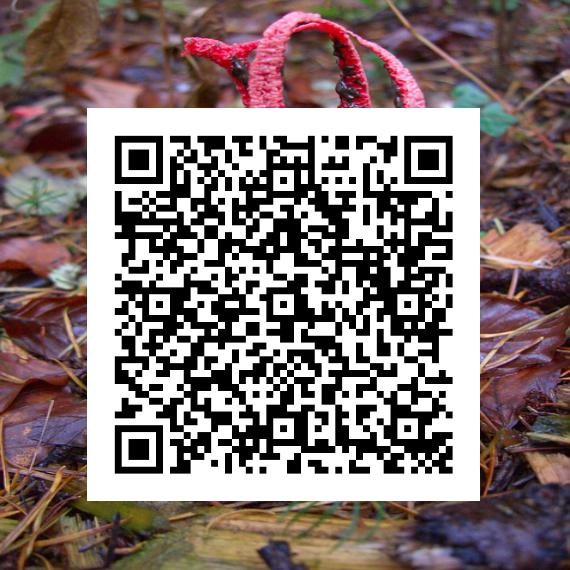qr_code: (87, 108, 479, 500)
